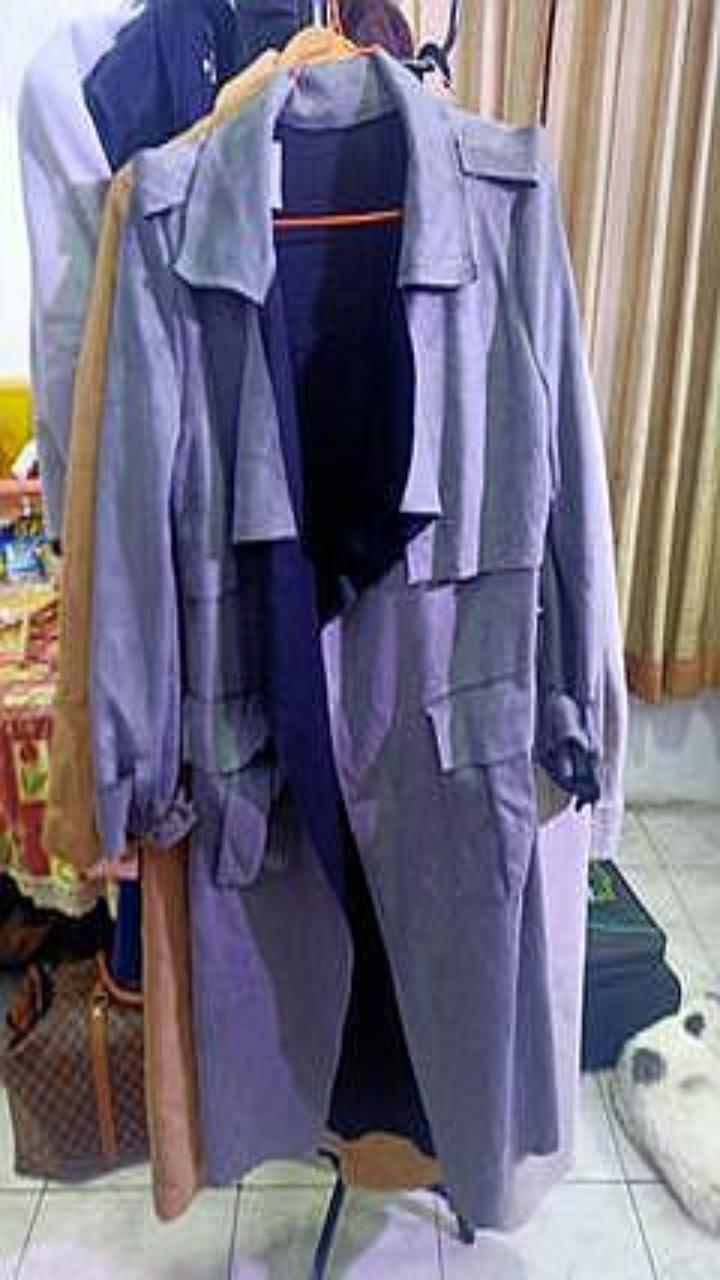Coat: (93, 54, 618, 1224)
